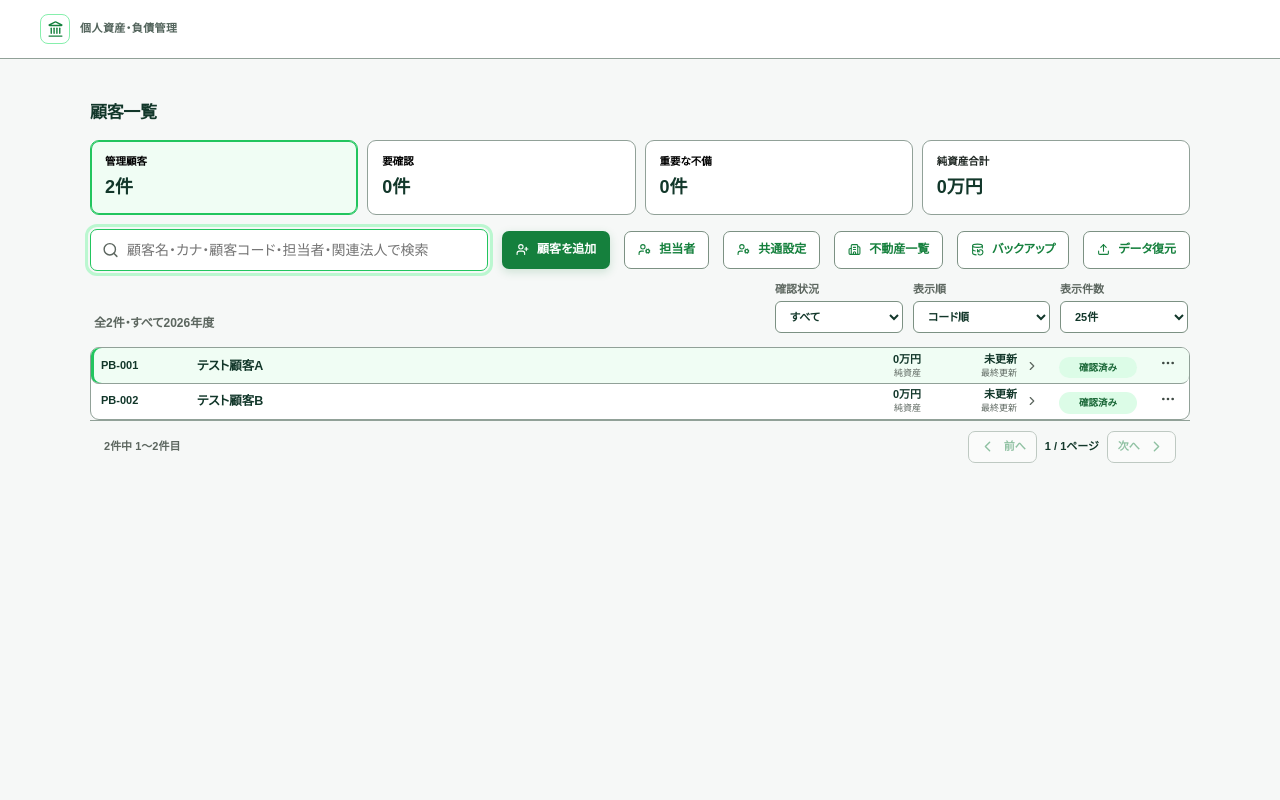
Test: 顧客一覧からの削除 › 最新の件数と削除範囲を確認し、コード不一致とキャンセルでは削除しない
Click the button named "テスト顧客Aの操作" at {"x": 1168, "y": 363}, box [1153,348,1183,378]
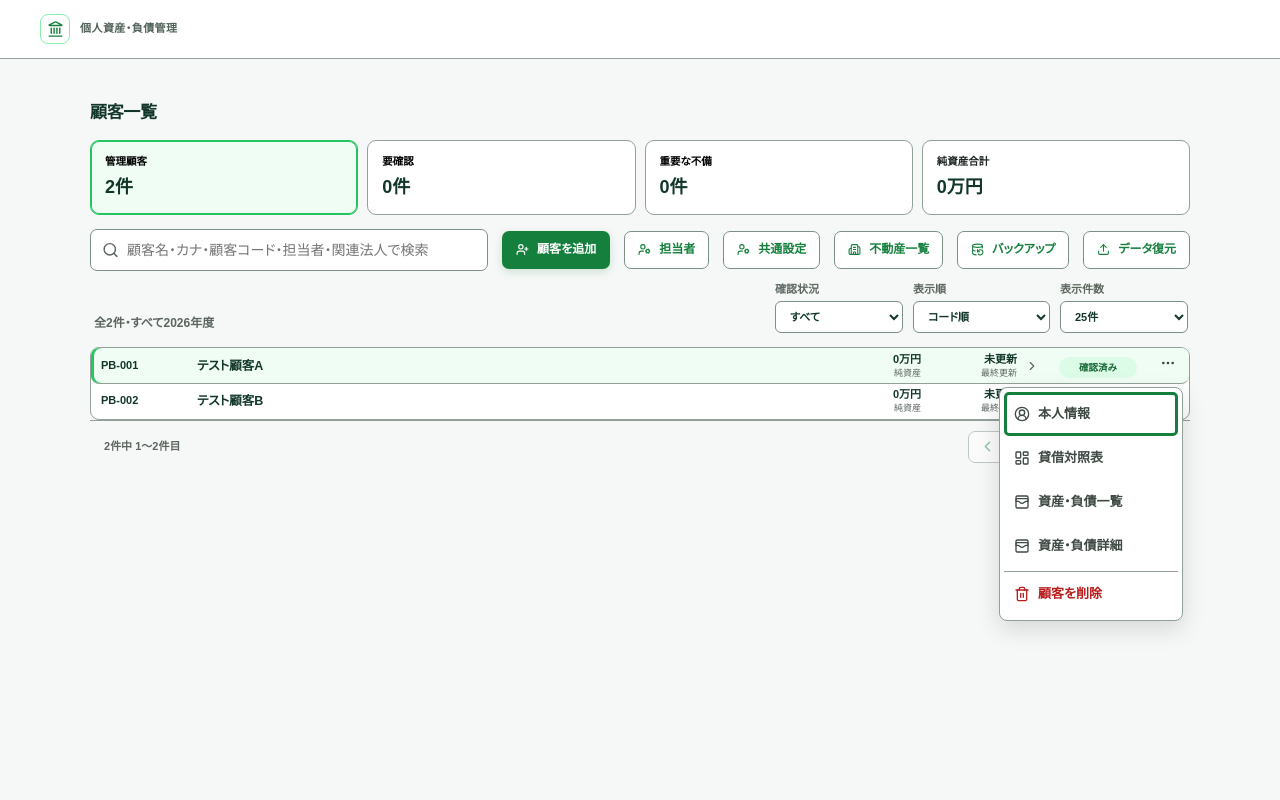
Click the menu item "顧客を削除" at {"x": 1091, "y": 594}, box [1004,572,1178,616]
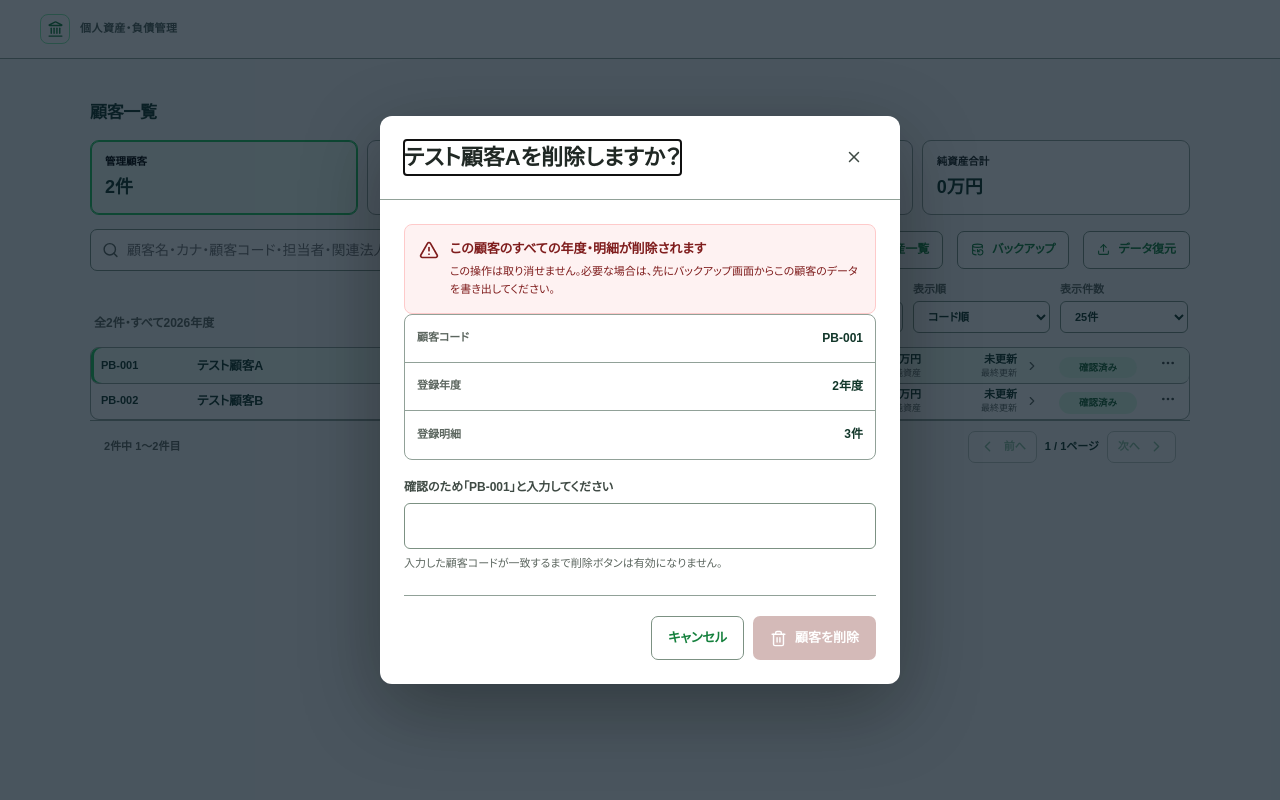
Check: the text "2年度" is shown, box [832,378,863,392]
Check: the text "3件" is shown, box [844,427,863,441]
Check: the text "この顧客のすべての年度・明細が削除されます" is shown, box [450,241,706,256]
Type "PB-002" into the field at {"x": 640, "y": 526}, box [404,503,876,549]
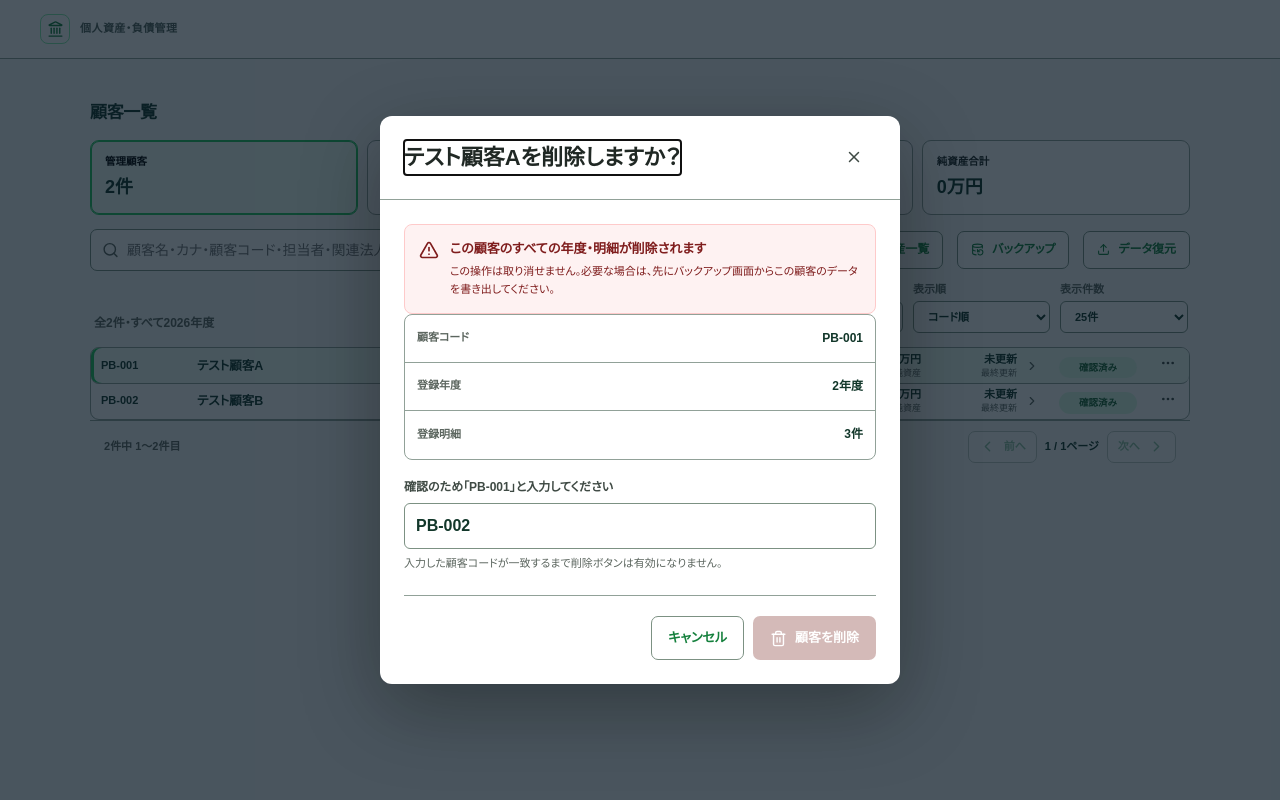
Check: the button "顧客を削除" is disabled, box [753,616,876,660]
Submit the form, box [380,200,900,684]
Click the button "キャンセル" at {"x": 698, "y": 638}, box [651,616,744,660]
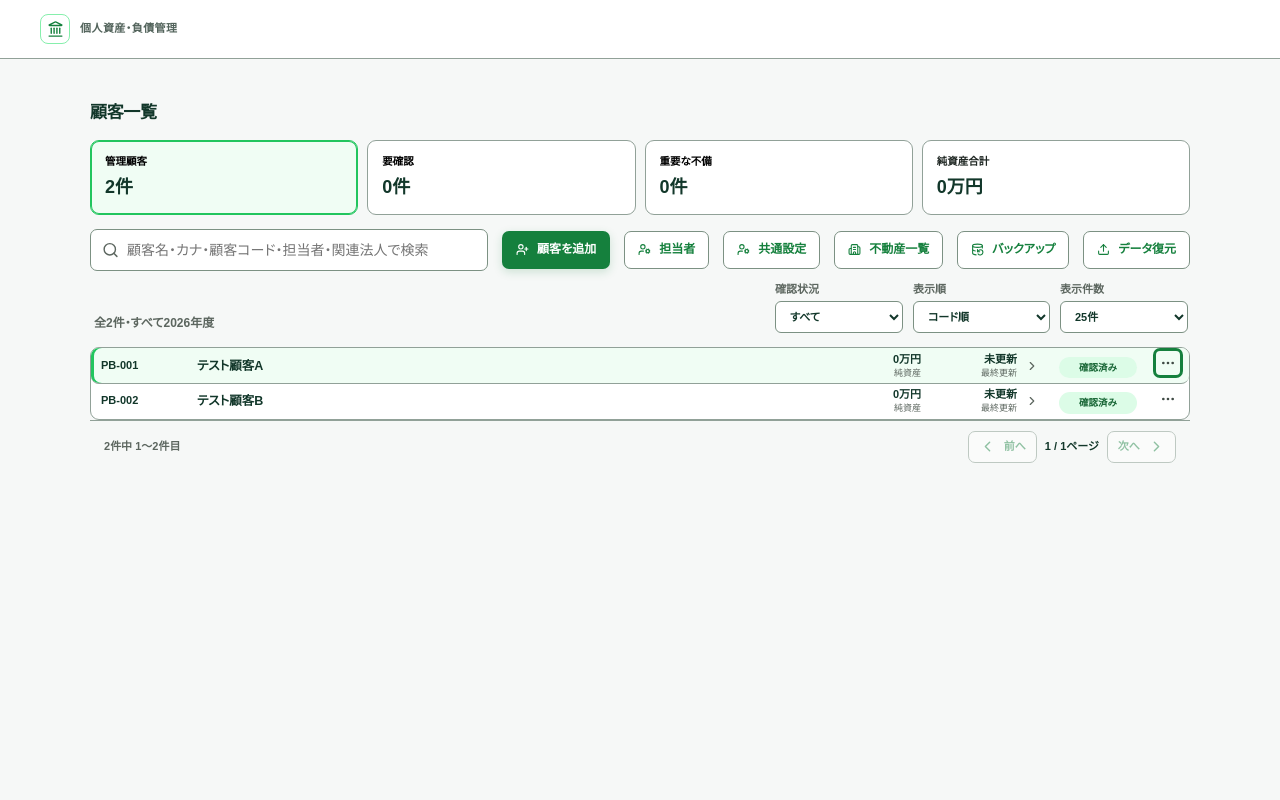
Check: the link "PB-001 テスト顧客A 0万円 純資産 未更新 最終更新" is shown, box [91,351,1049,381]
Check: the dialog is gone
